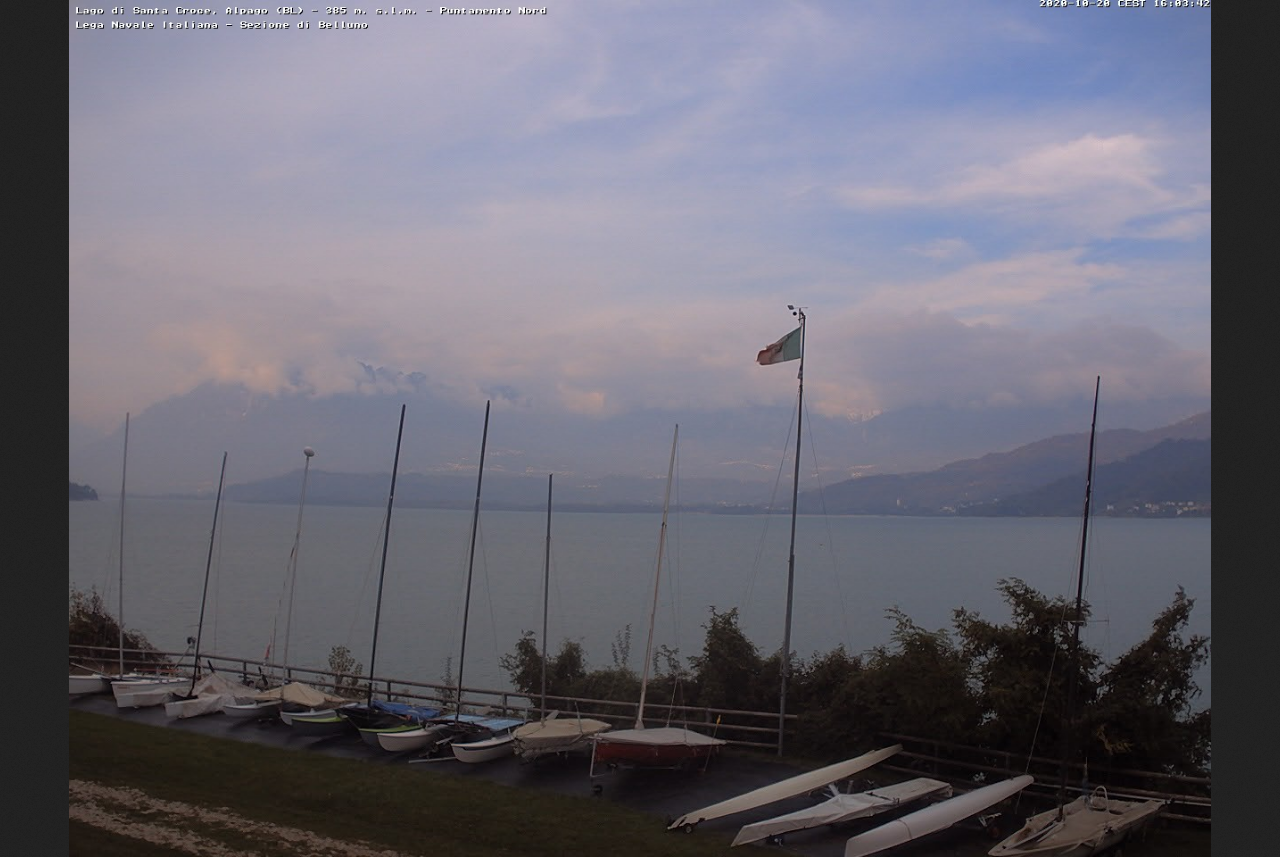yes: (754, 323, 804, 373)
